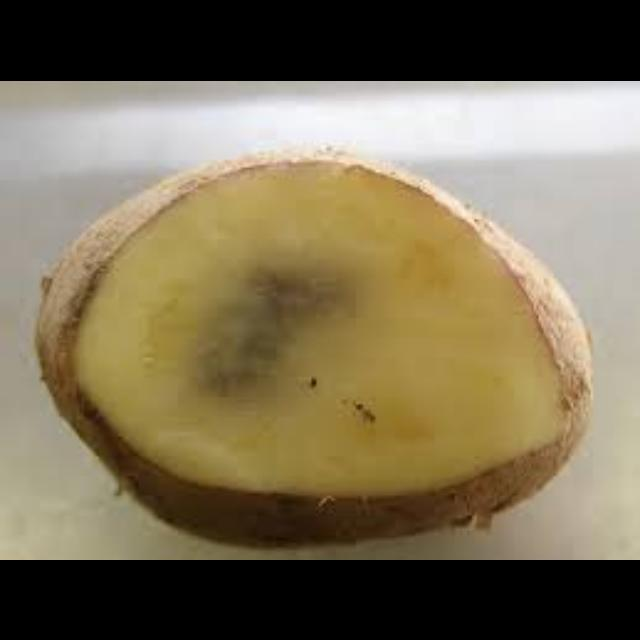Diseased-fungal potato: (31, 140, 604, 540)
